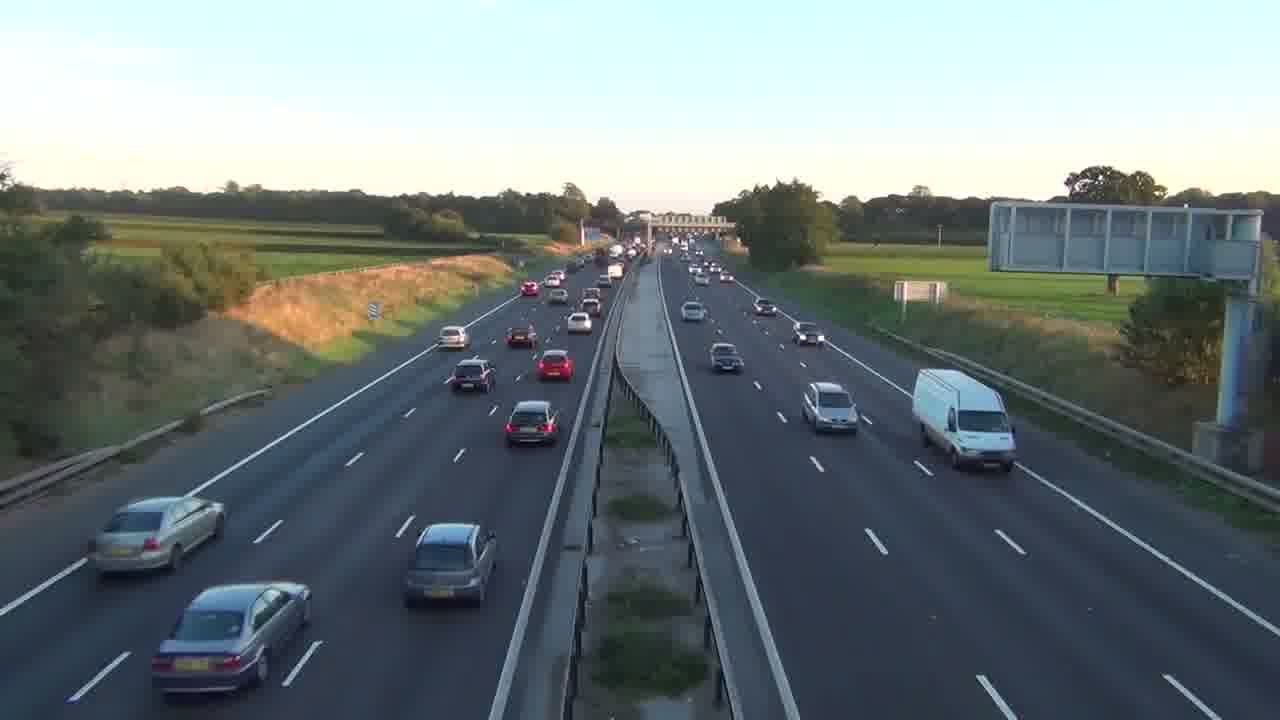car: (150, 579, 313, 697), (90, 494, 226, 575), (401, 521, 499, 607), (800, 380, 859, 434), (503, 399, 561, 447), (445, 357, 496, 392), (534, 349, 575, 383), (709, 342, 745, 373), (566, 312, 593, 335)
truck: (911, 367, 1018, 471)
